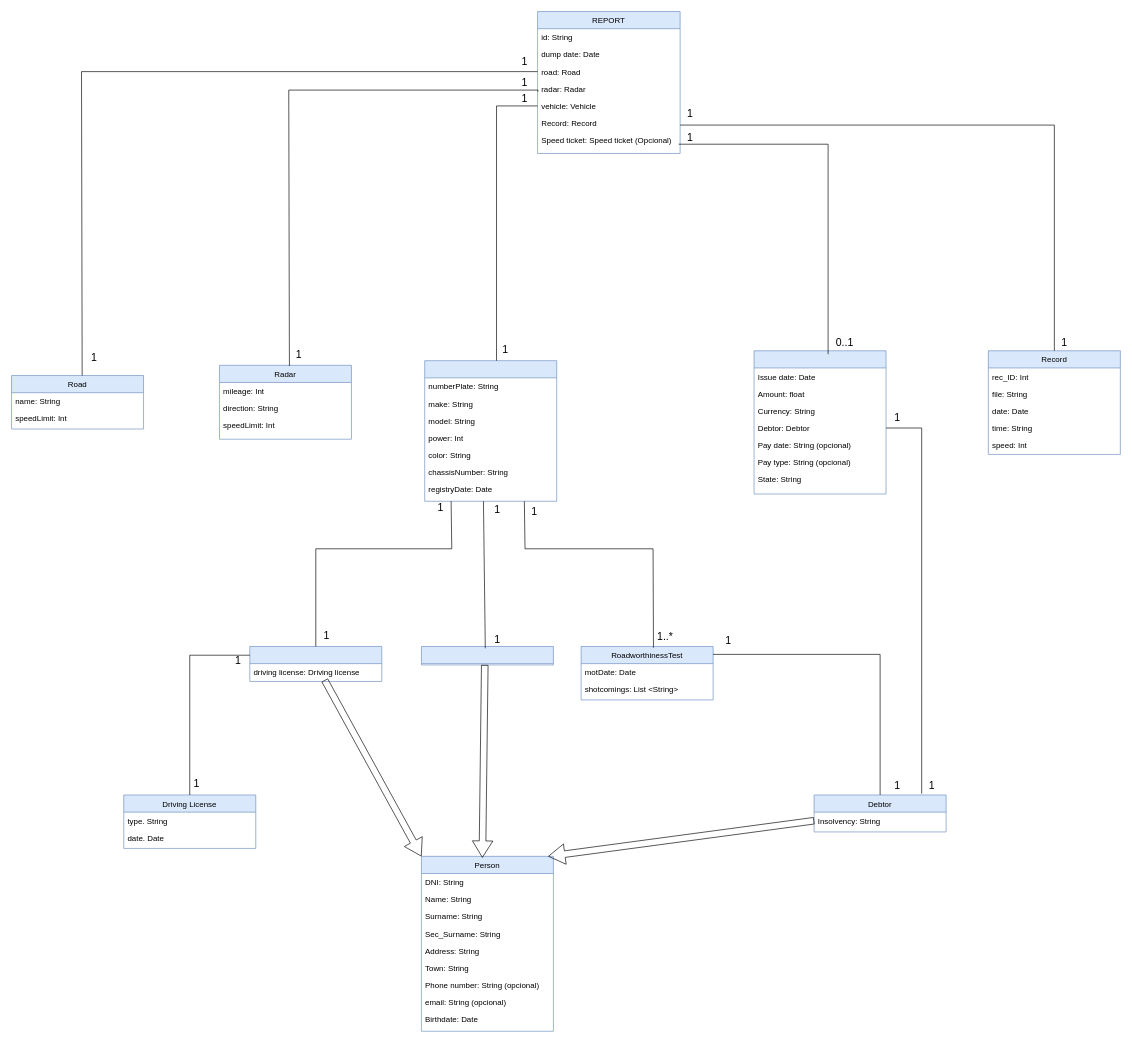
The diagram is 1132 pixels wide and 1043 high, and some of its shapes have lost their labels. The box of each missing label's shape, as (x1, y1, x2, y2) in pixels:
Driver: (249, 646, 382, 681)
Owner: (421, 646, 553, 665)
Speed ticket: (753, 350, 886, 494)
Vehicle: (424, 360, 557, 501)
